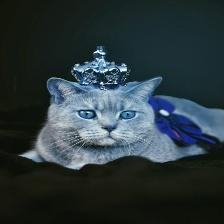kedo: (37, 78, 160, 152)
